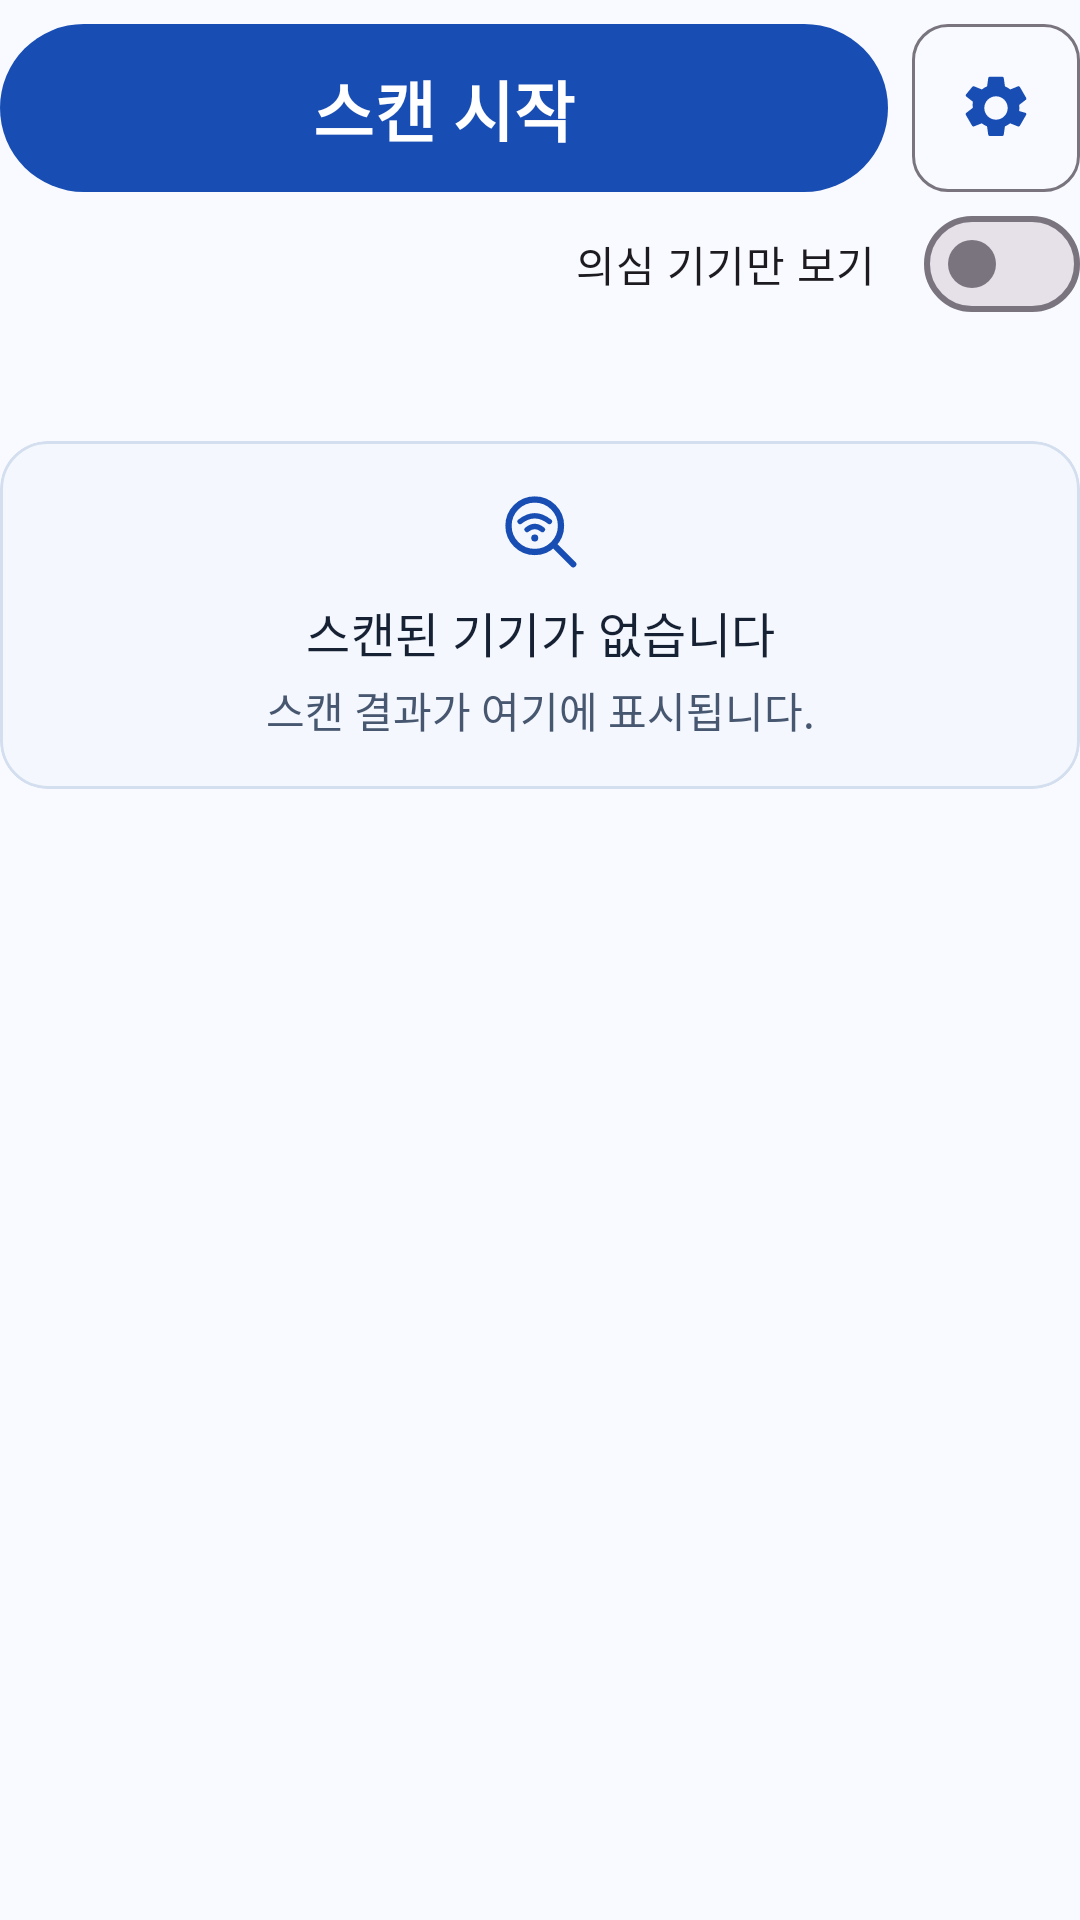

Icons on this 1080*1920 Android screen, each with the point to tap as point (x, y):
scan: point (541, 532)
스캔할 기기 설정: point (996, 108)
